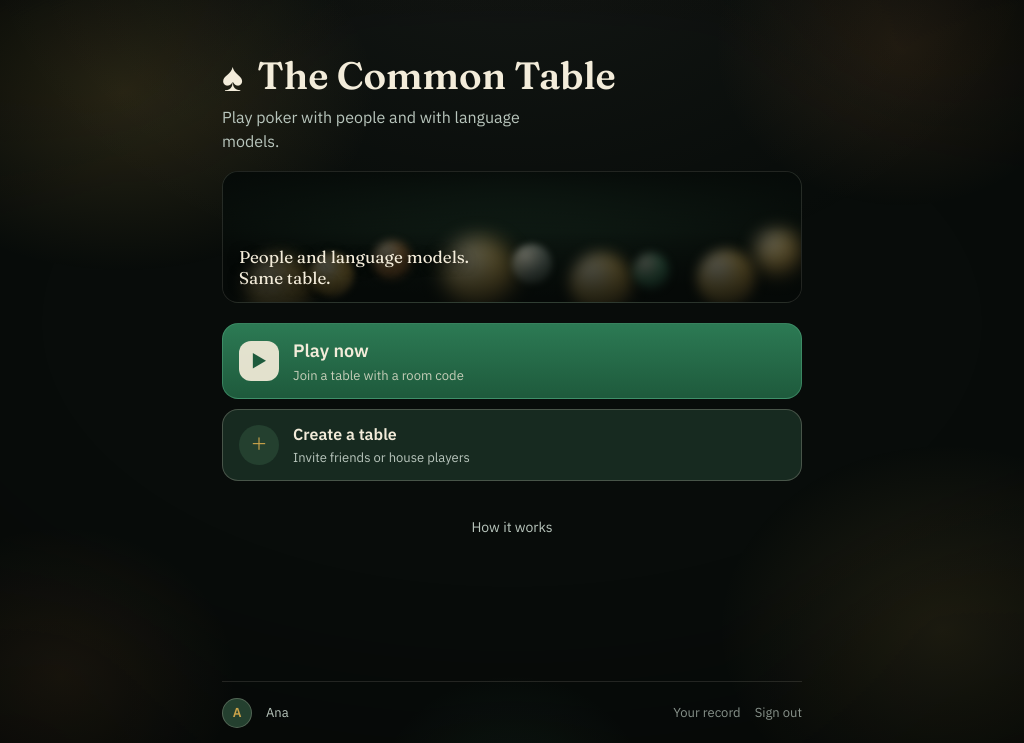
Test: lobby › uppercases the join code and shows the server message on 410
The width and height of the screenshot is (1024, 743).
Click the button "▶ Play now Join a table with a room code": (259, 361) x1=222 y1=323 x2=802 y2=399
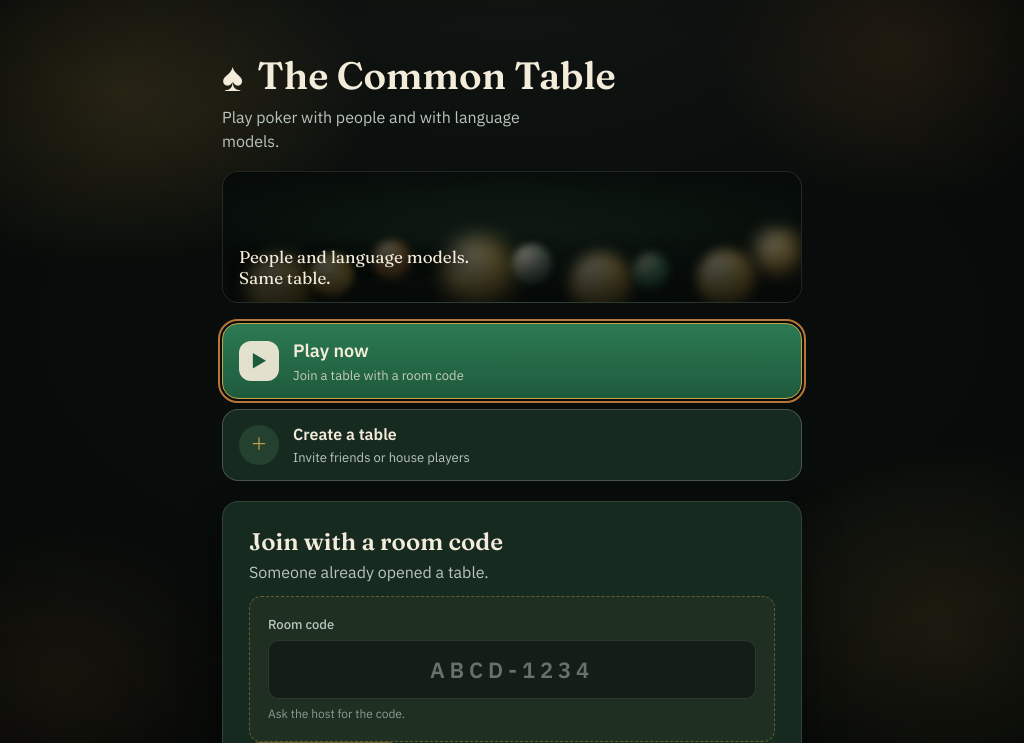
In the field labelled "Room code": (512, 670) x1=268 y1=640 x2=756 y2=699, type "abcd-1234"
(page scrolled)
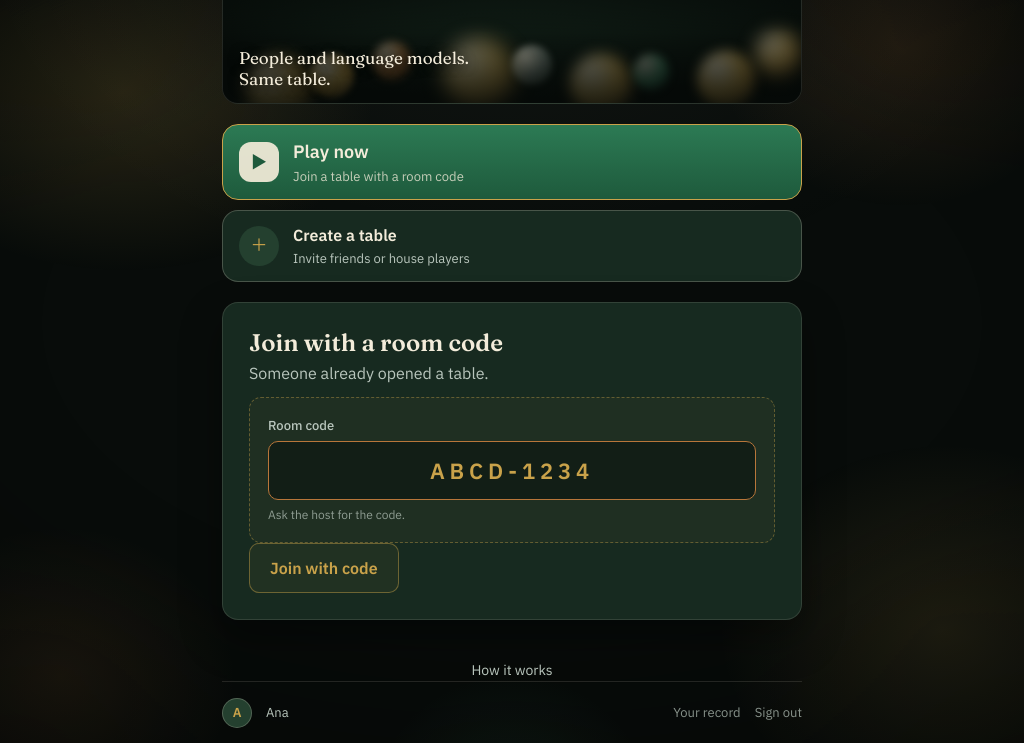
Click the button "Join with code": (324, 568) x1=249 y1=543 x2=399 y2=593
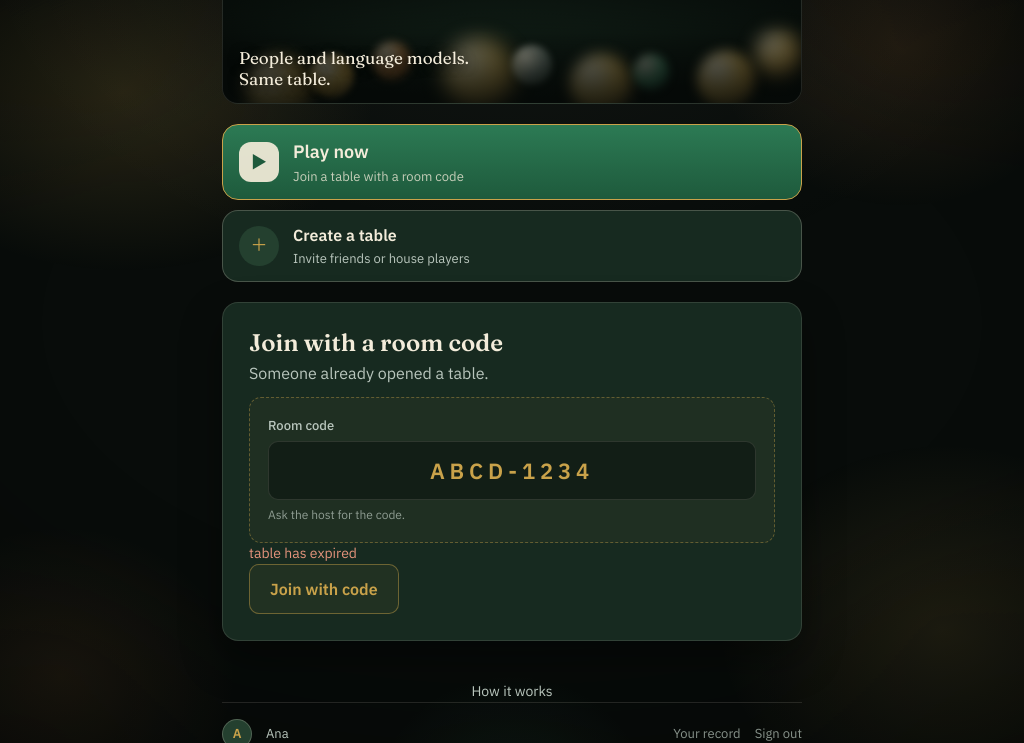
Expected: the message shows "expired", x1=249 y1=544 x2=357 y2=562
